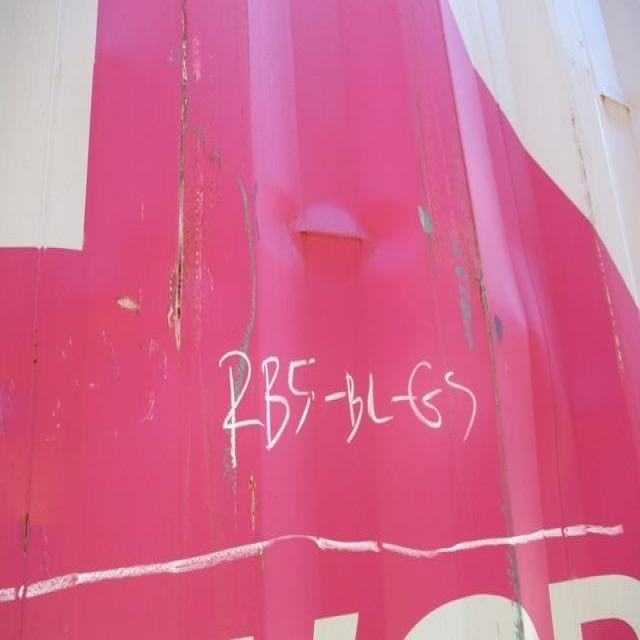Minor-Dent: (247, 127, 634, 531)
